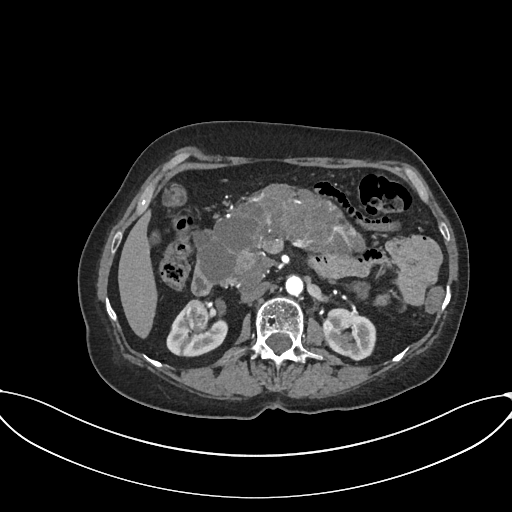Lesion: (322, 319, 336, 335)
